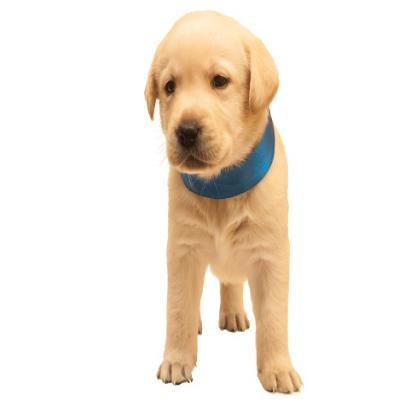dog: (137, 12, 302, 387)
